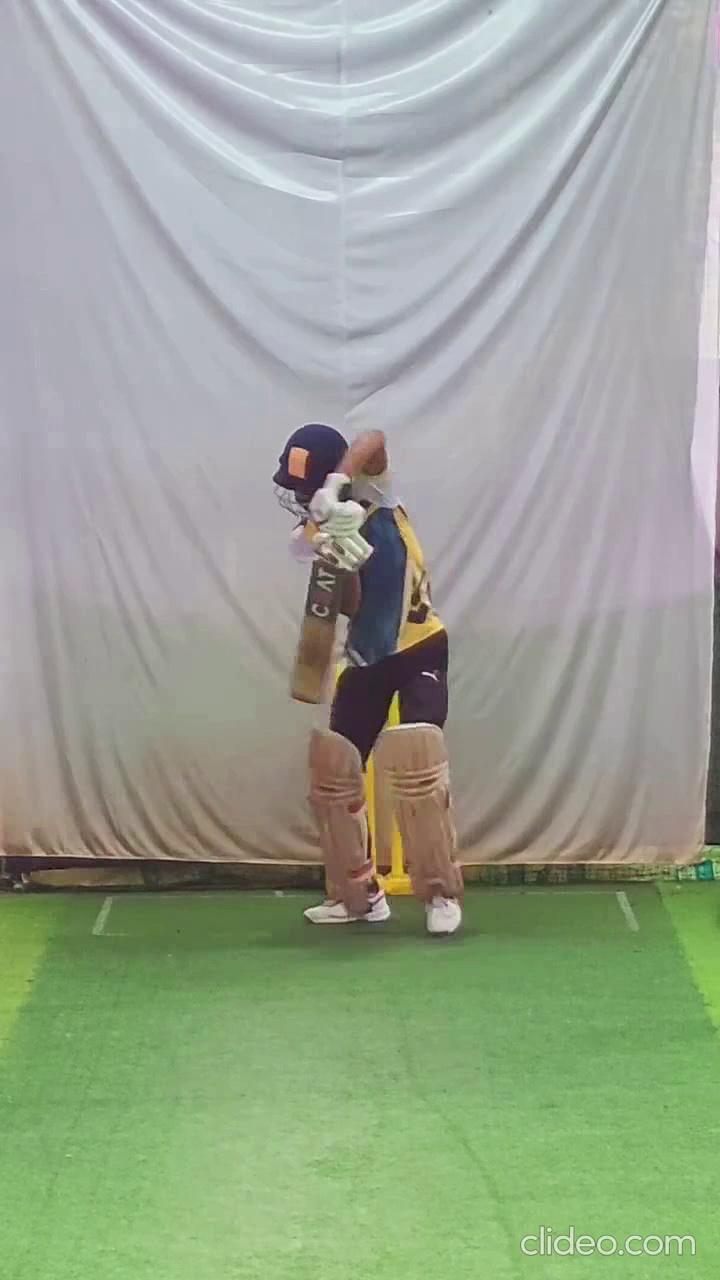bat: (285, 557, 351, 710)
